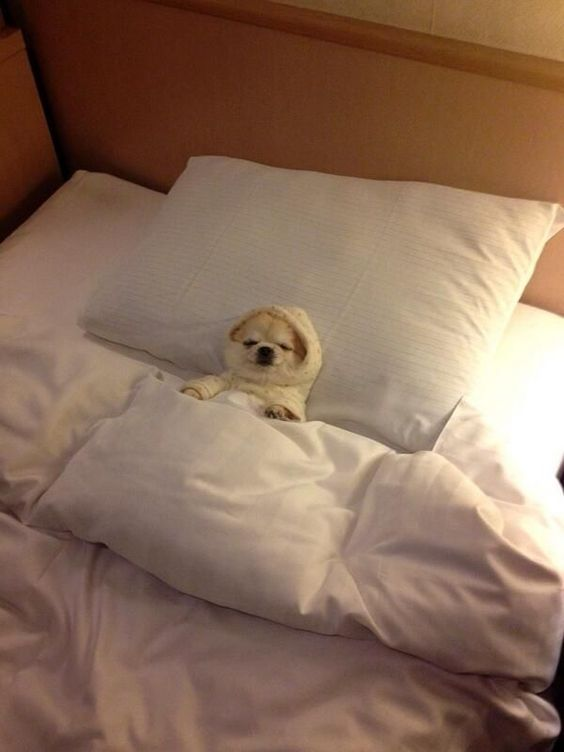dog: (183, 300, 325, 418)
